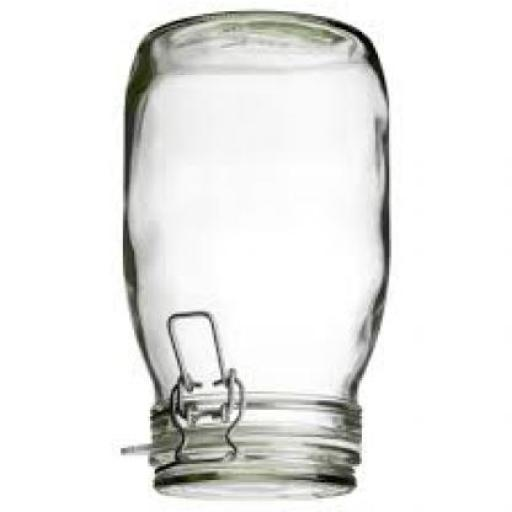glass: (125, 16, 394, 503)
